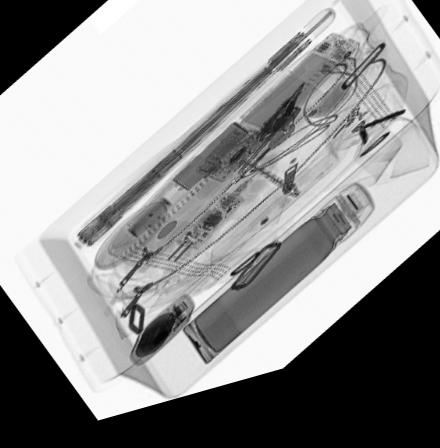Powerbank: (124, 303, 197, 375)
